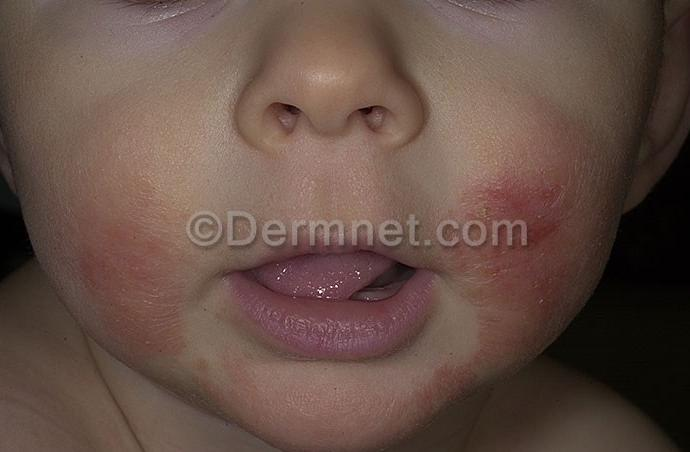eritema 1: (93, 141, 183, 358)
eritema 3: (457, 158, 597, 360)
